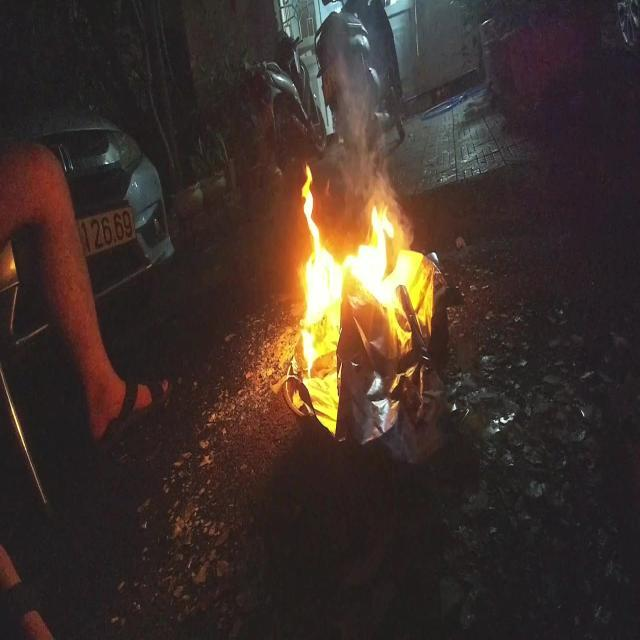Fire: (298, 158, 434, 378)
Smoke: (326, 40, 403, 214)
